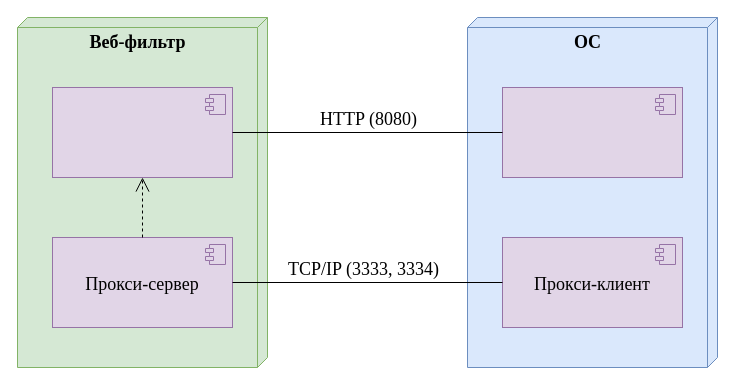
Some shapes in this 735 by 385 pixel diagram are drawn without their labels. The shapes that lost their labels are listed below. From the top down, each one's centre as x and y in pixels, then its label:
At (142,132): "Веб-сервер".
At (592,132): "Веб-консоль".
